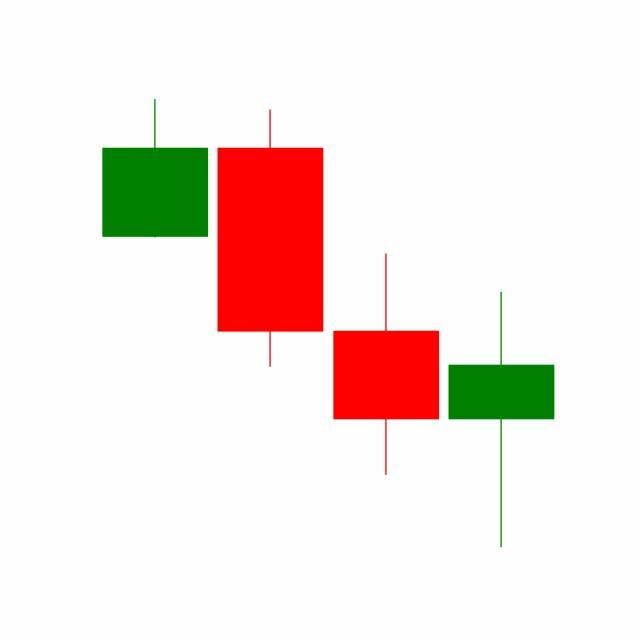Spinning Top: (444, 289, 560, 551)
